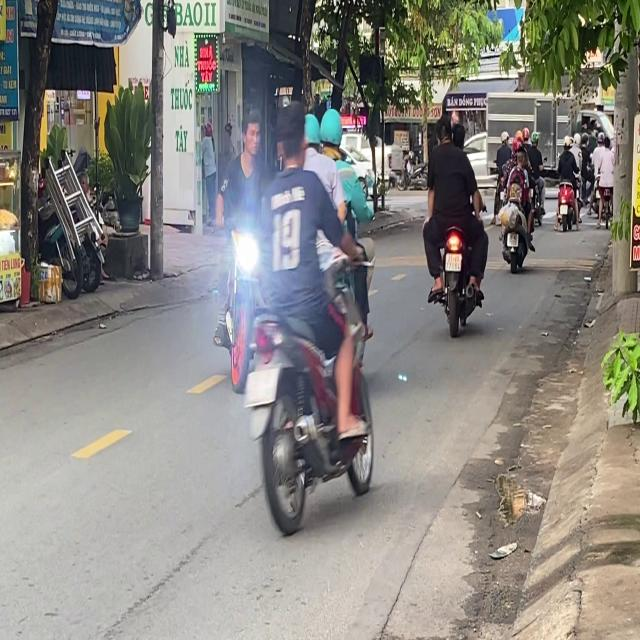helmet: (318, 107, 343, 153), (303, 112, 320, 153)
licenseplate: (221, 98, 380, 535), (421, 107, 489, 334)
motorcyclist: (275, 104, 307, 168), (436, 112, 452, 143), (450, 114, 465, 147)
nohelmet: (245, 369, 278, 405), (444, 253, 460, 271)
